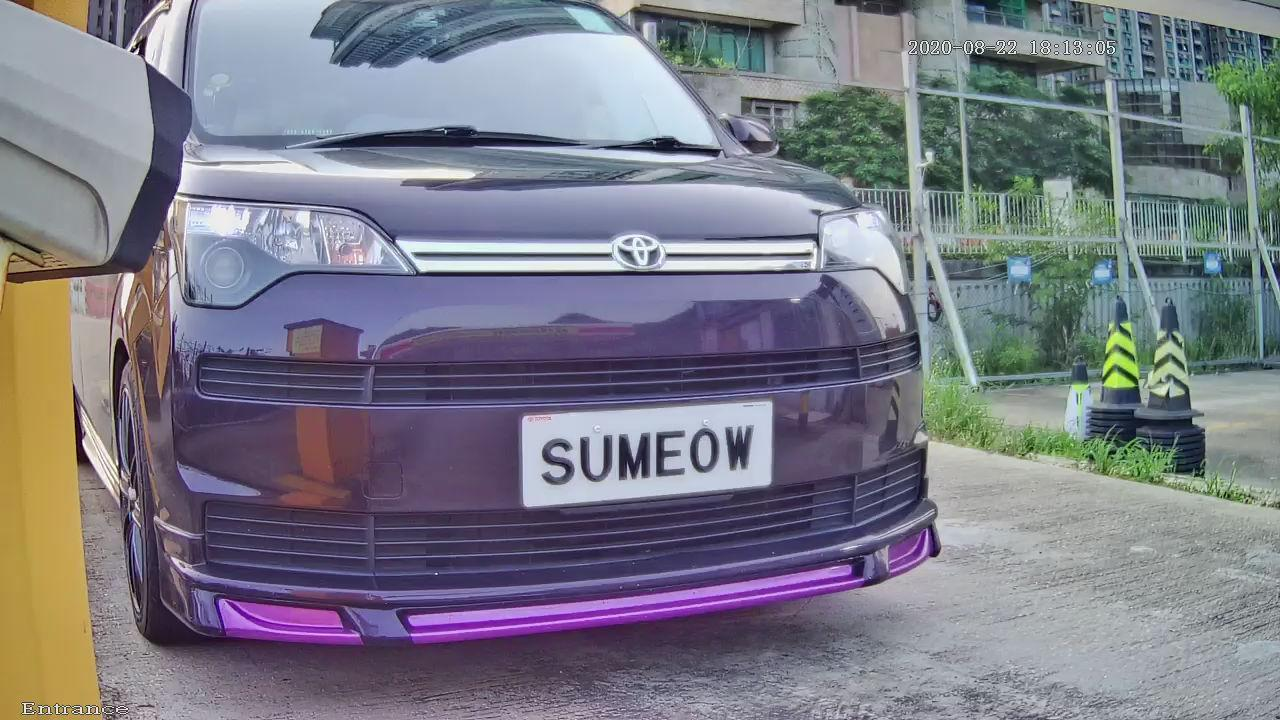License Plate: (509, 393, 778, 518)
